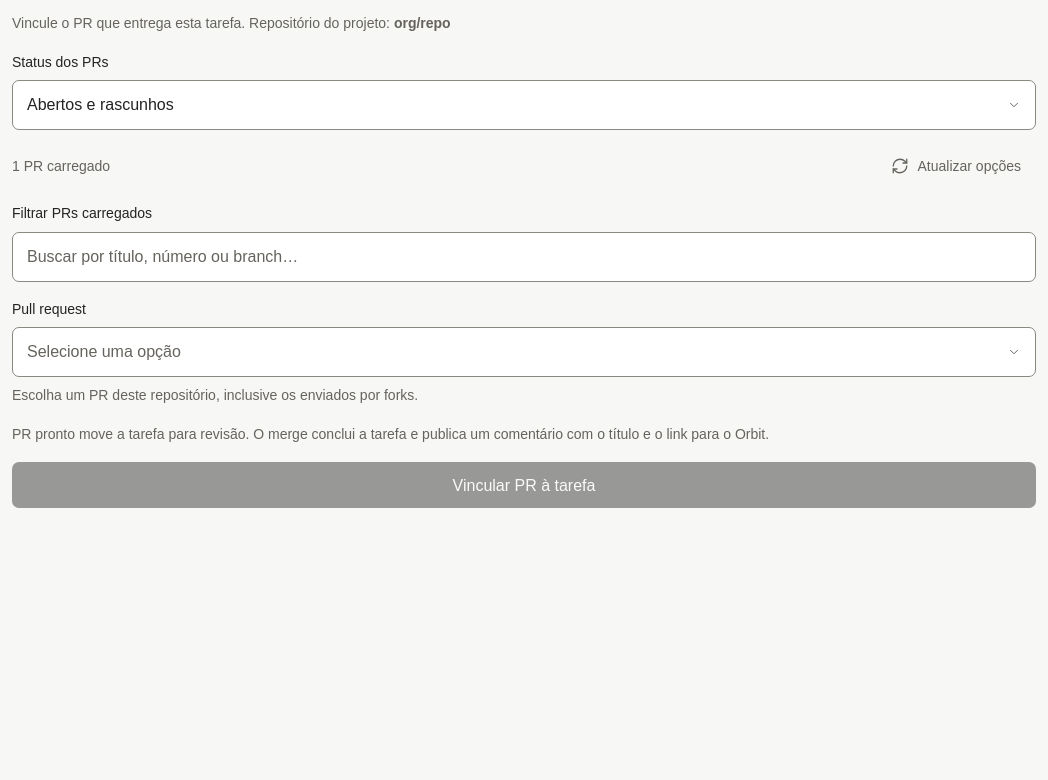
Test: resets selection on status changes and warns before linking an already merged PR
Click the dropdown named "Pull request": (104, 352) x1=12 y1=327 x2=1036 y2=377
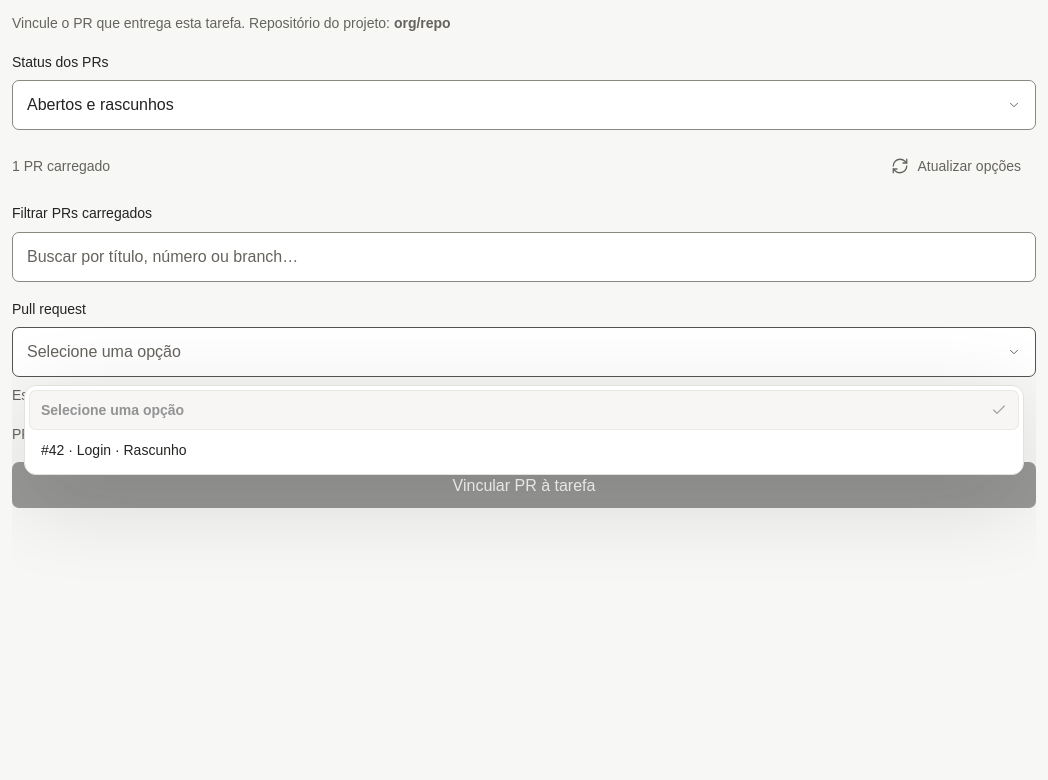
Click the option "#42 · Login · Rascunho": (114, 450) x1=41 y1=442 x2=186 y2=458
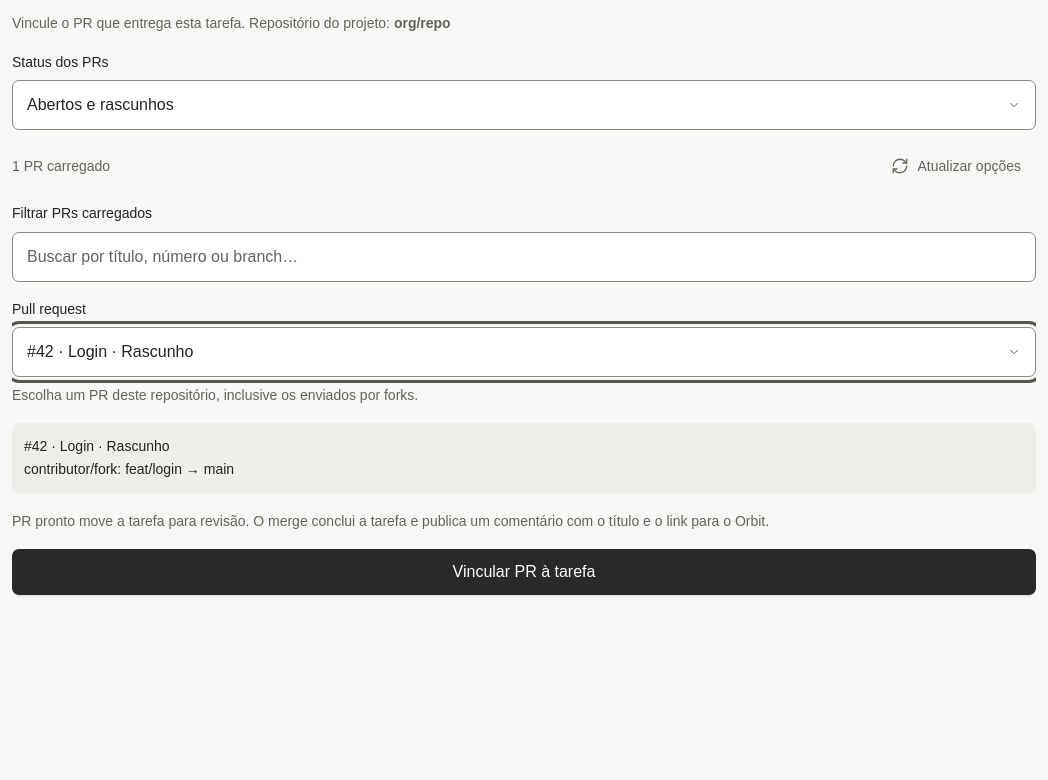
Expected: the text "contributor/fork: feat/login" is shown, x1=24 y1=462 x2=234 y2=478
Click the dropdown named "Status dos PRs": (100, 105) x1=12 y1=80 x2=1036 y2=130
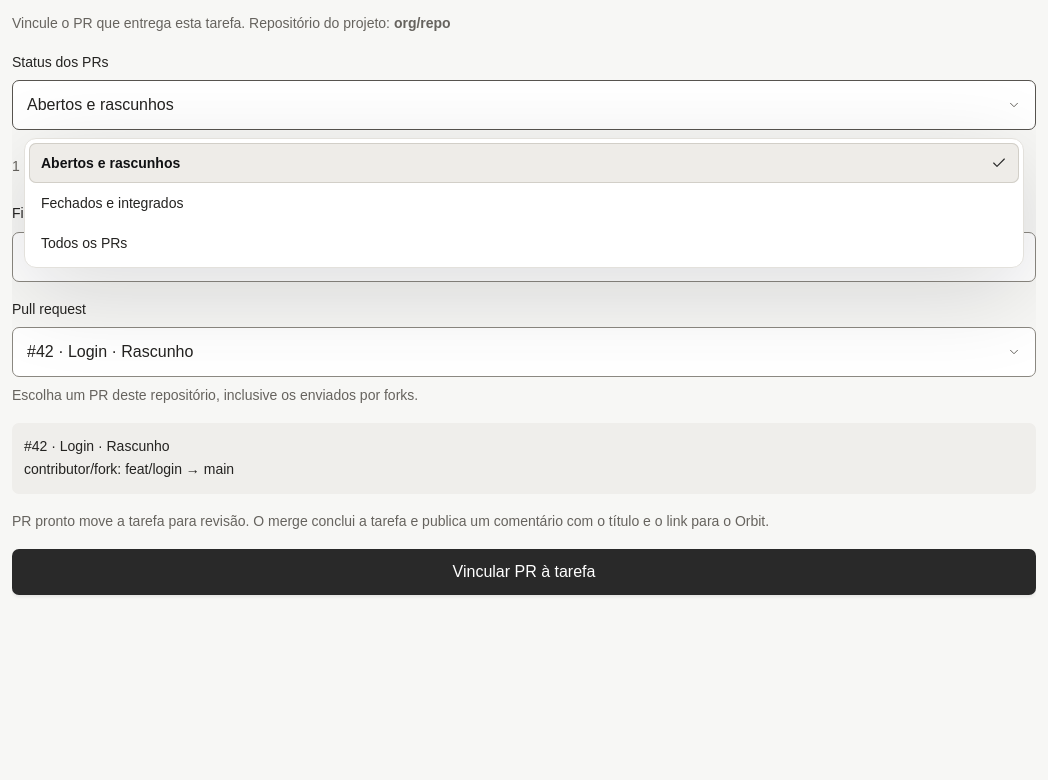
Click the option "Fechados e integrados": (112, 202) x1=41 y1=194 x2=183 y2=210
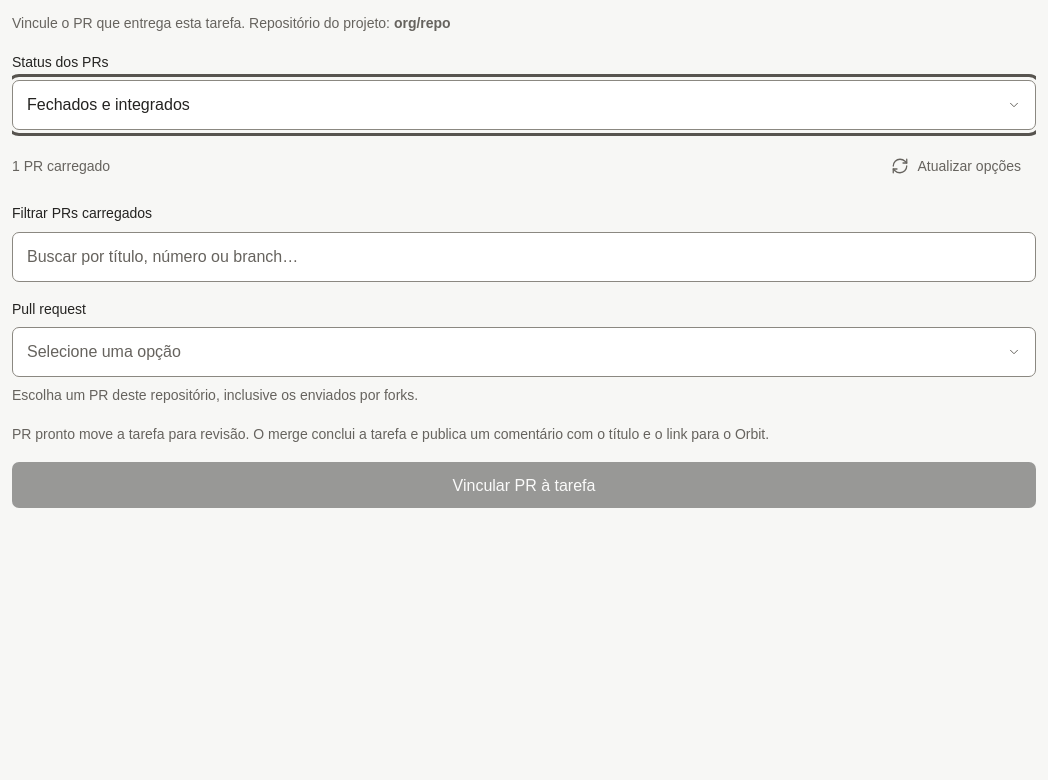
Expected: the button "Vincular PR à tarefa" is disabled, x1=12 y1=462 x2=1036 y2=508
Click the dropdown named "Pull request": (104, 352) x1=12 y1=327 x2=1036 y2=377
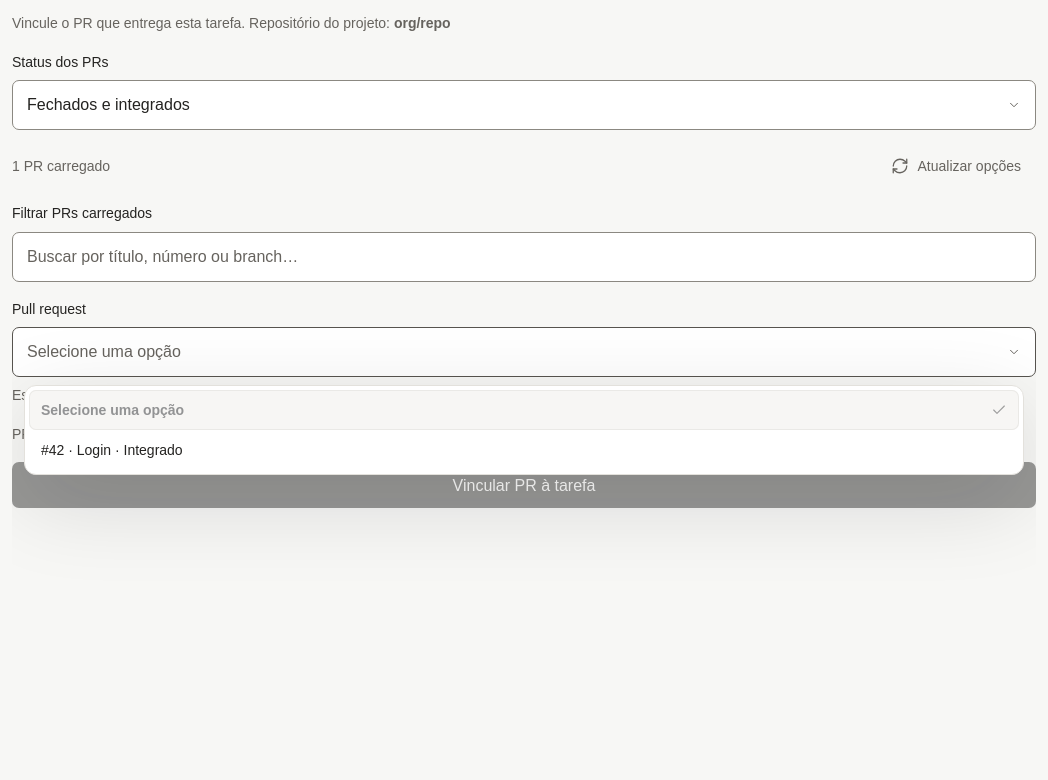
Click the option "#42 · Login · Integrado": (112, 450) x1=41 y1=442 x2=183 y2=458
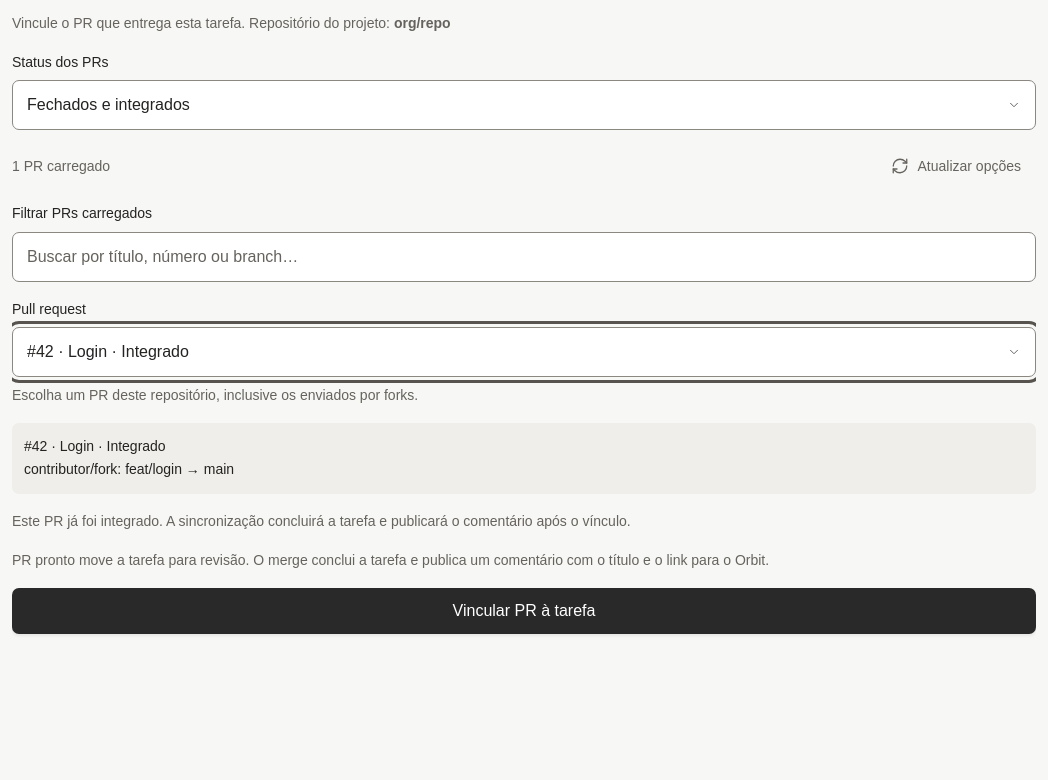
Expected: the text "Este PR já foi integrado" is shown, x1=12 y1=512 x2=631 y2=528
